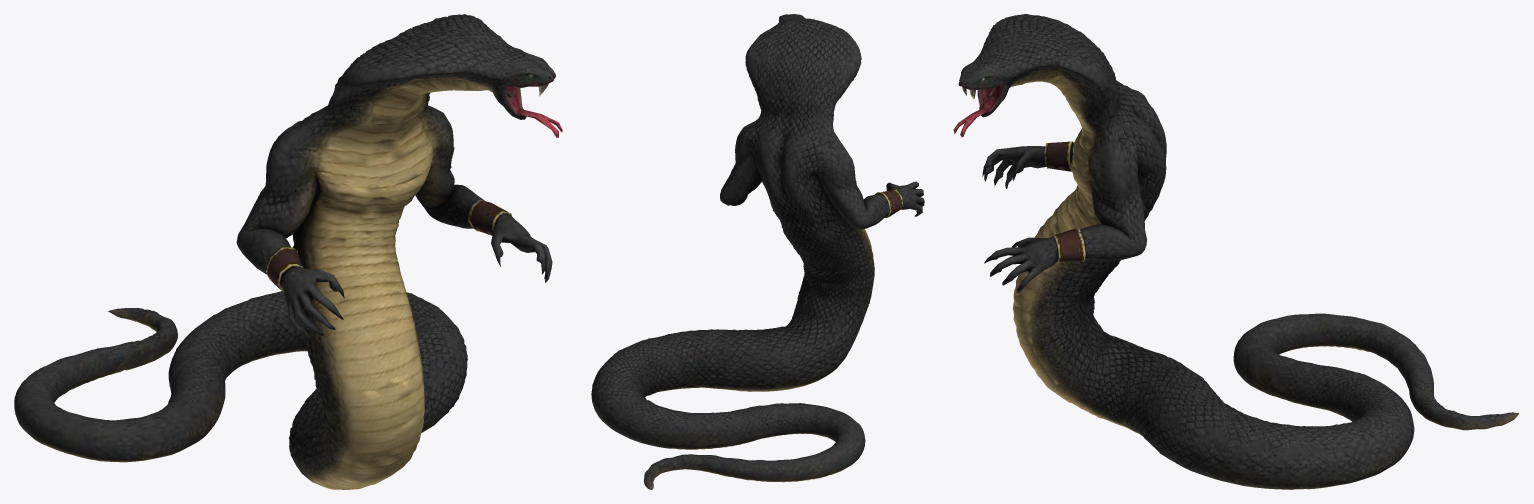
The model's file is MZ4250 - Yuan-Ti Abomination_Cobra.glb.
The picture shows the model from 3 angles, left to right: view 1: azimuth 30°, elevation 25°; view 2: azimuth 150°, elevation 25°; view 3: azimuth 270°, elevation 25°; orthographic projection. The views are drawn at different scales.
Visible parts, largest first — view 1: Snake Head mouth open.001; view 2: Snake Head mouth open.001; view 3: Snake Head mouth open.001.
Part boxes in pixels (box(x1,y1,x2,y2)): Snake Head mouth open.001: box(14, 14, 562, 489); Snake Head mouth open.001: box(591, 14, 924, 489); Snake Head mouth open.001: box(953, 14, 1519, 489).
Bounding box in the file's own units: 101 × 117 × 145.
Materials: 1 (1 with a texture image).
